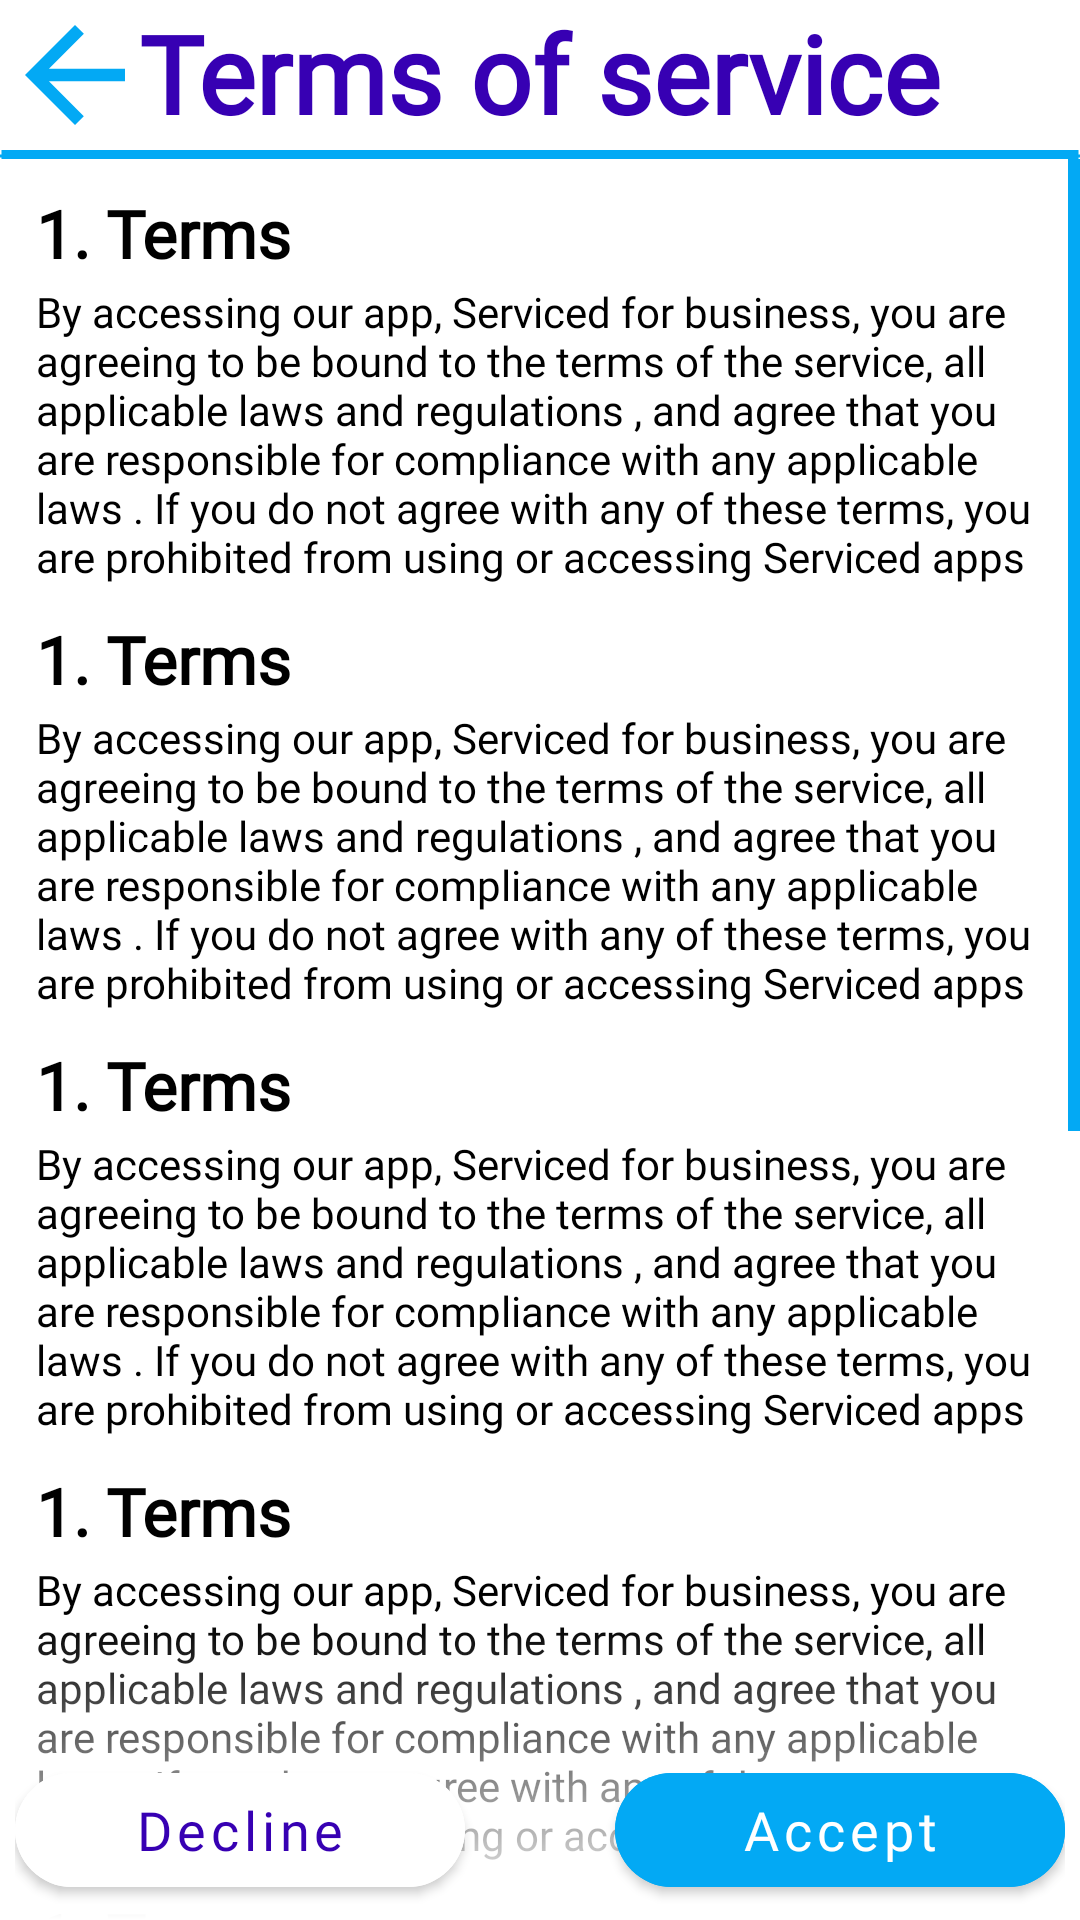

Where icons sit on this 1080px x 1920px app screen, as (x1, y1, x2, y2):
arrow back: (25, 25, 125, 125)
